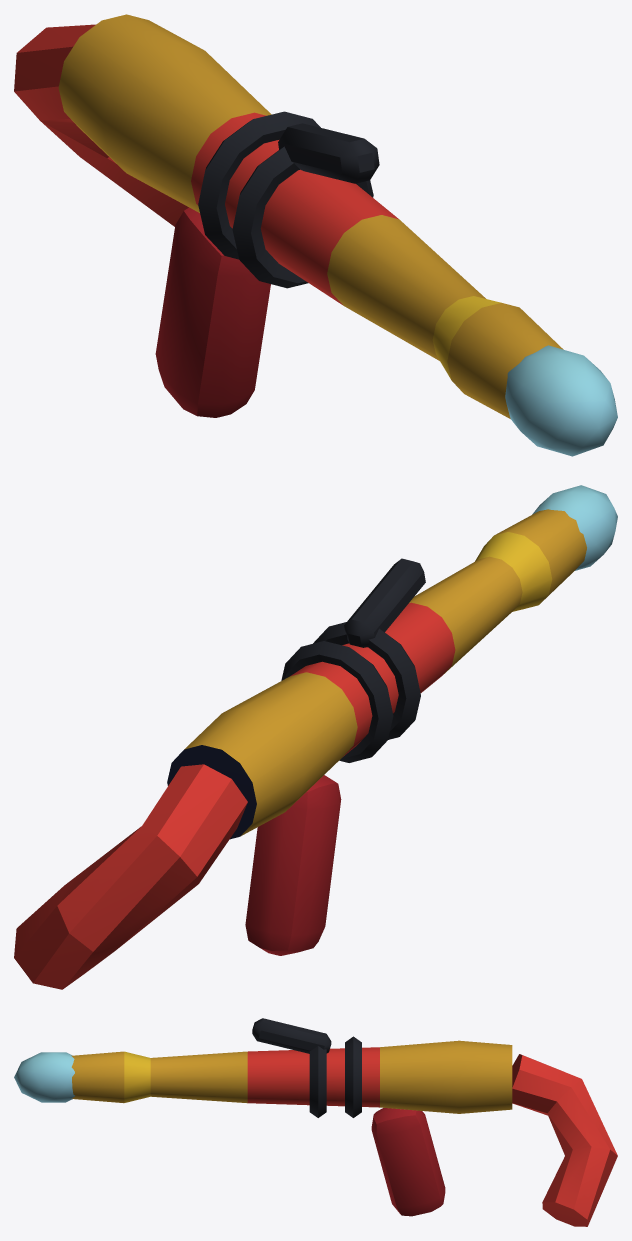
The model's file is w_m_hose.glb.
3 views of the same model, one above another, from view 1: azimuth 30°, elevation 25°; view 2: azimuth 150°, elevation 25°; view 3: azimuth 270°, elevation 25° (orthographic). The views are drawn at different scales.
Visible parts, largest first — view 1: body; view 2: body; view 3: body.
Boxes of the visible parts, left/top/right/bottom form: body: left=14, top=14, right=617, bottom=456; body: left=14, top=485, right=617, bottom=989; body: left=14, top=1018, right=617, bottom=1226.
Bounding box in the file's own units: 0.3235 × 0.4607 × 1.3.
